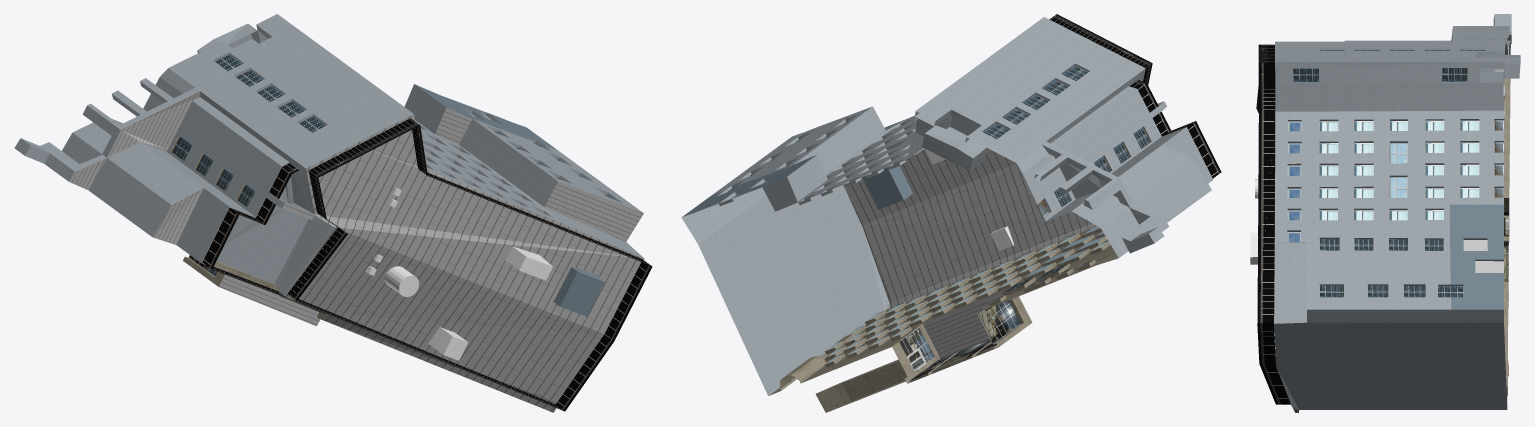
3 renders of one model, left to right at view 1: azimuth 30°, elevation 25°; view 2: azimuth 150°, elevation 25°; view 3: azimuth 270°, elevation 25°, orthographic. The views are drawn at different scales.
Visible parts, largest first — view 1: Toompuiestee_4b; view 2: Toompuiestee_4b; view 3: Toompuiestee_4b.
Part boxes in pixels (x1,y1,x2,y2): Toompuiestee_4b: (14, 14, 652, 412); Toompuiestee_4b: (681, 14, 1221, 412); Toompuiestee_4b: (1250, 14, 1520, 412).
Size of the model in its own units: 46.02 by 29.88 by 25.34.
